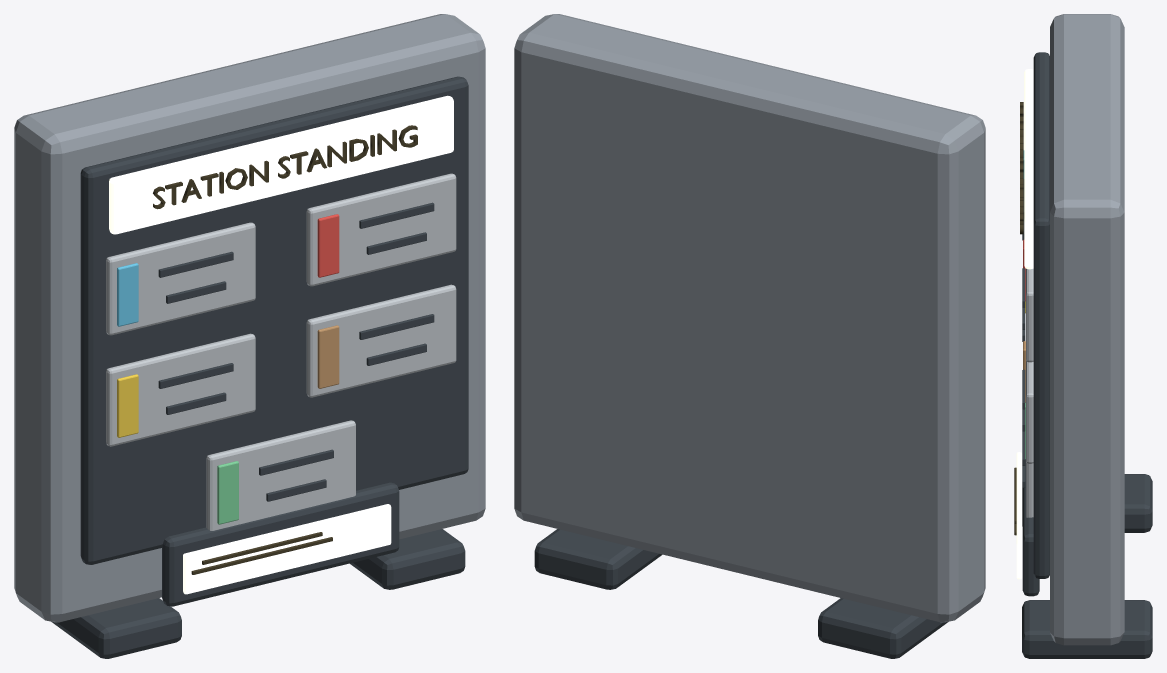
Rendered from machine_standing_board.glb.
3 views of the same model, side by side, from view 1: azimuth 30°, elevation 25°; view 2: azimuth 150°, elevation 25°; view 3: azimuth 270°, elevation 25° (orthographic). The views are drawn at different scales.
Visible parts, largest first — view 1: MCH_StandingBoard__Frame, MCH_StandingBoard__Board_Surface, MCH_StandingBoard__Header, MCH_StandingBoard__Department_Card_2, MCH_StandingBoard__Department_Card_4, MCH_StandingBoard__Department_Card_3, MCH_StandingBoard__Department_Card_1, MCH_StandingBoard__Department_Card_5, MCH_StandingBoard__Board_Control_Glow, MCH_StandingBoard__Board_Control_Bezel, MCH_StandingBoard__Foot_Left, MCH_StandingBoard__Foot_Right (+12 smaller); view 2: MCH_StandingBoard__Frame, MCH_StandingBoard__Foot_Right, MCH_StandingBoard__Foot_Left; view 3: MCH_StandingBoard__Frame, MCH_StandingBoard__Board_Surface, MCH_StandingBoard__Foot_Right, MCH_StandingBoard__Header, MCH_StandingBoard__Foot_Left, MCH_StandingBoard__Board_Control_Bezel, MCH_StandingBoard__Board_Control_Glow, MCH_StandingBoard__Department_Card_4, MCH_StandingBoard__Department_Card_2, MCH_StandingBoard__Header_Text, MCH_StandingBoard__Department_Card_5.
Boxes of the visible parts, left/top/right/bottom form: MCH_StandingBoard__Frame: left=14, top=14, right=485, bottom=622; MCH_StandingBoard__Board_Surface: left=80, top=76, right=468, bottom=564; MCH_StandingBoard__Header: left=109, top=95, right=453, bottom=234; MCH_StandingBoard__Department_Card_2: left=306, top=173, right=456, bottom=286; MCH_StandingBoard__Department_Card_4: left=306, top=284, right=456, bottom=397; MCH_StandingBoard__Department_Card_3: left=106, top=333, right=255, bottom=446; MCH_StandingBoard__Department_Card_1: left=106, top=222, right=255, bottom=335; MCH_StandingBoard__Department_Card_5: left=206, top=420, right=355, bottom=530; MCH_StandingBoard__Board_Control_Glow: left=183, top=504, right=391, bottom=594; MCH_StandingBoard__Board_Control_Bezel: left=162, top=482, right=399, bottom=606; MCH_StandingBoard__Foot_Left: left=51, top=598, right=181, bottom=658; MCH_StandingBoard__Foot_Right: left=350, top=529, right=465, bottom=589; MCH_StandingBoard__Frame: left=514, top=14, right=985, bottom=622; MCH_StandingBoard__Foot_Right: left=534, top=529, right=662, bottom=589; MCH_StandingBoard__Foot_Left: left=818, top=598, right=948, bottom=658; MCH_StandingBoard__Frame: left=1050, top=14, right=1124, bottom=645; MCH_StandingBoard__Board_Surface: left=1033, top=52, right=1049, bottom=578; MCH_StandingBoard__Foot_Right: left=1022, top=600, right=1152, bottom=658; MCH_StandingBoard__Header: left=1024, top=69, right=1033, bottom=269; MCH_StandingBoard__Foot_Left: left=1022, top=474, right=1152, bottom=532; MCH_StandingBoard__Board_Control_Bezel: left=1022, top=459, right=1039, bottom=596; MCH_StandingBoard__Board_Control_Glow: left=1016, top=452, right=1022, bottom=579; MCH_StandingBoard__Department_Card_4: left=1026, top=360, right=1033, bottom=463; MCH_StandingBoard__Department_Card_2: left=1026, top=268, right=1033, bottom=362; MCH_StandingBoard__Header_Text: left=1020, top=102, right=1023, bottom=234; MCH_StandingBoard__Department_Card_5: left=1026, top=461, right=1033, bottom=517.
Size of the model in its own units: 1.5 by 1.68 by 0.444.
